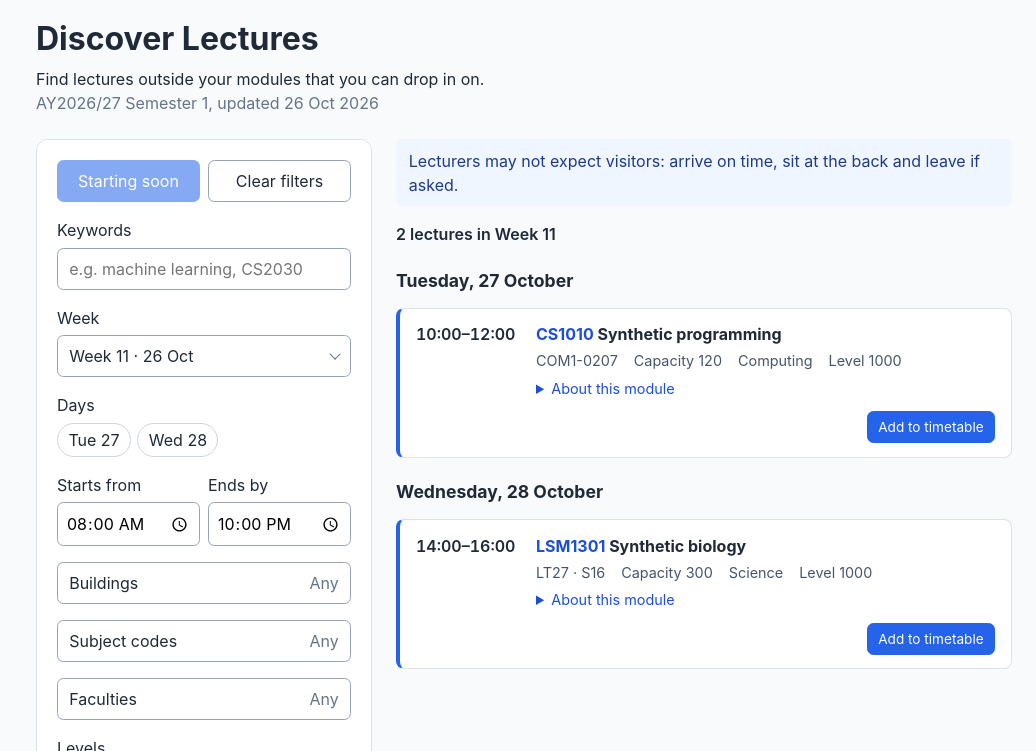
Test case: filters by keywords in the description and records them in the URL
Expected: the text "2 lectures in Week 11" is shown, [396,224,556,244]
Type "machine learning" into the search field labelled "Keywords" at (204, 269), box [57,248,351,290]
(page scrolled)
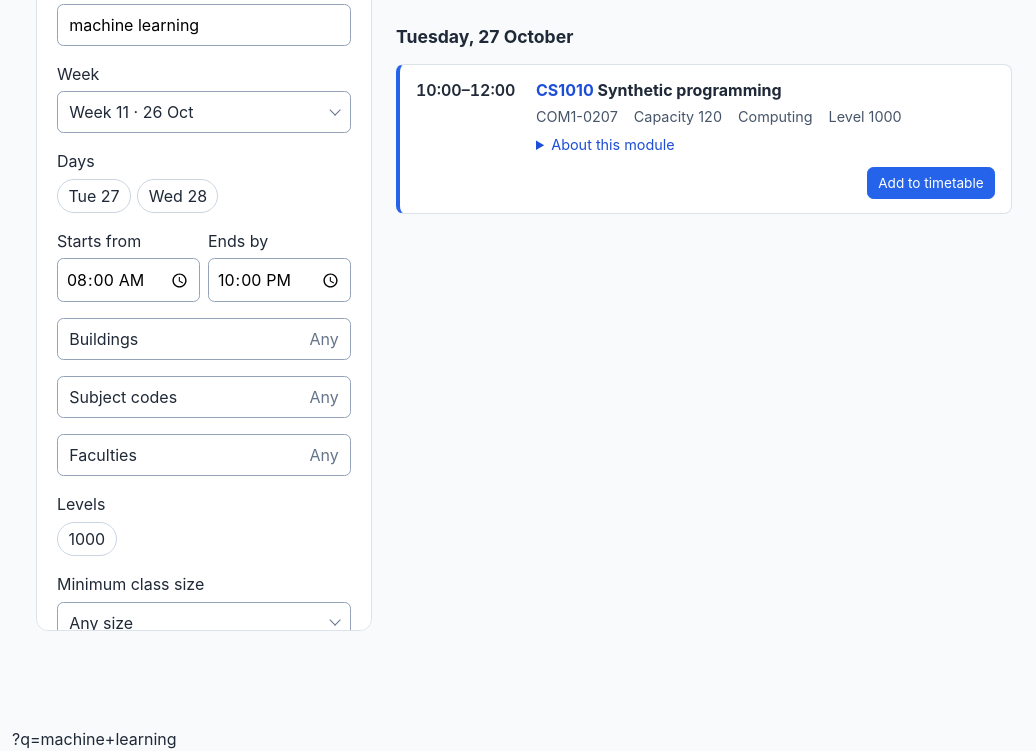
Expected: the heading "CS1010 Synthetic programming" is shown, [536,80,782,100]
Result: the heading "Synthetic biology" is gone
Result: the text with test id "location" reads "?q=machine+learning" at [12,729,177,749]
